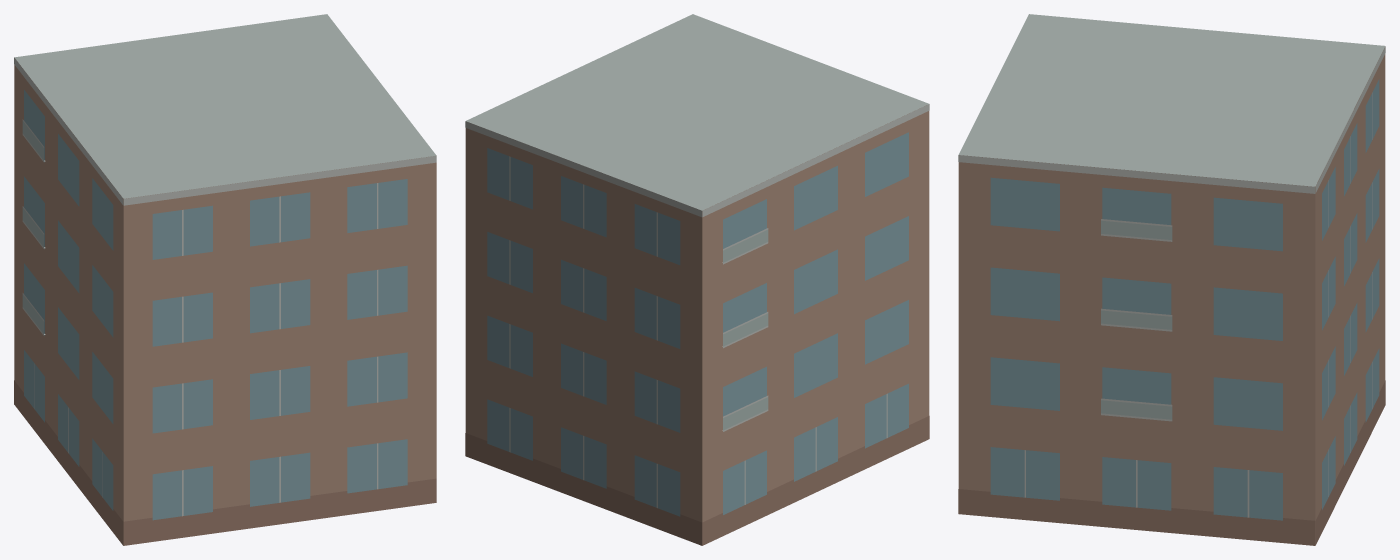
The model's file is residential-52fb8d63-a84d-4b16-b23d-3528260b6dbc.glb.
3 renders of one model, left to right at view 1: azimuth 30°, elevation 25°; view 2: azimuth 150°, elevation 25°; view 3: azimuth 270°, elevation 25°, orthographic. The views are drawn at different scales.
Visible parts, largest first — view 1: residential-52fb8d63-a84d-4b16-b23d-3528260b6dbc.tmp; view 2: residential-52fb8d63-a84d-4b16-b23d-3528260b6dbc.tmp; view 3: residential-52fb8d63-a84d-4b16-b23d-3528260b6dbc.tmp.
Boxes of the visible parts, bbox=[...] form: residential-52fb8d63-a84d-4b16-b23d-3528260b6dbc.tmp: bbox=[14, 14, 436, 545]; residential-52fb8d63-a84d-4b16-b23d-3528260b6dbc.tmp: bbox=[465, 14, 929, 545]; residential-52fb8d63-a84d-4b16-b23d-3528260b6dbc.tmp: bbox=[958, 14, 1385, 545].
Size of the model in its own units: 12.6 by 12.2 by 13.16.
